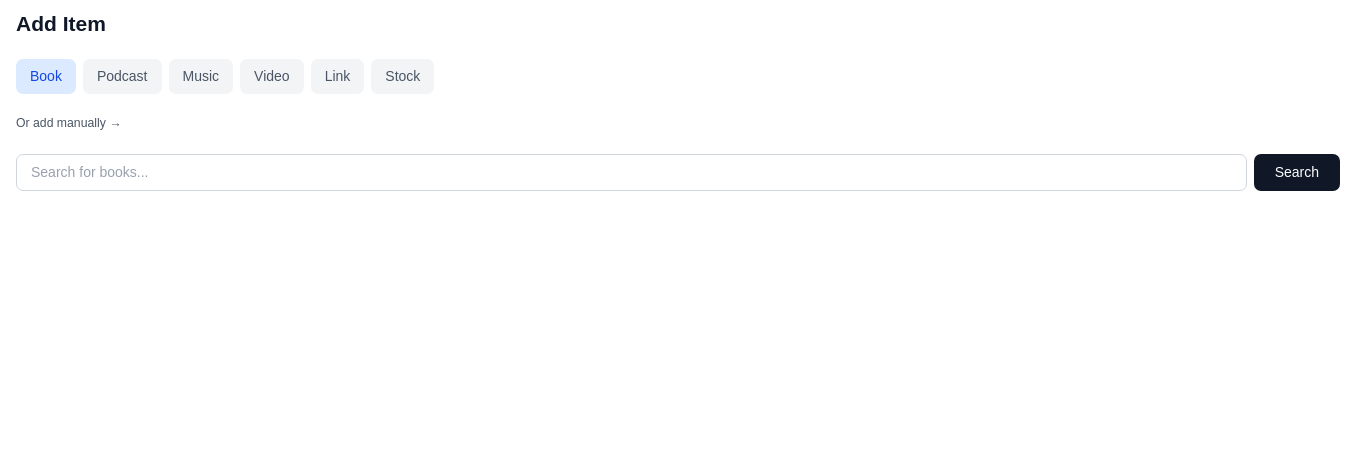
Scenario: AddItemForm - Episode Browsing › displays episodes when Browse Episodes is clicked
Switch to podcast type and search
Click the button "Podcast" at [122, 76], box top-left (83, 59), bottom-right (162, 94)
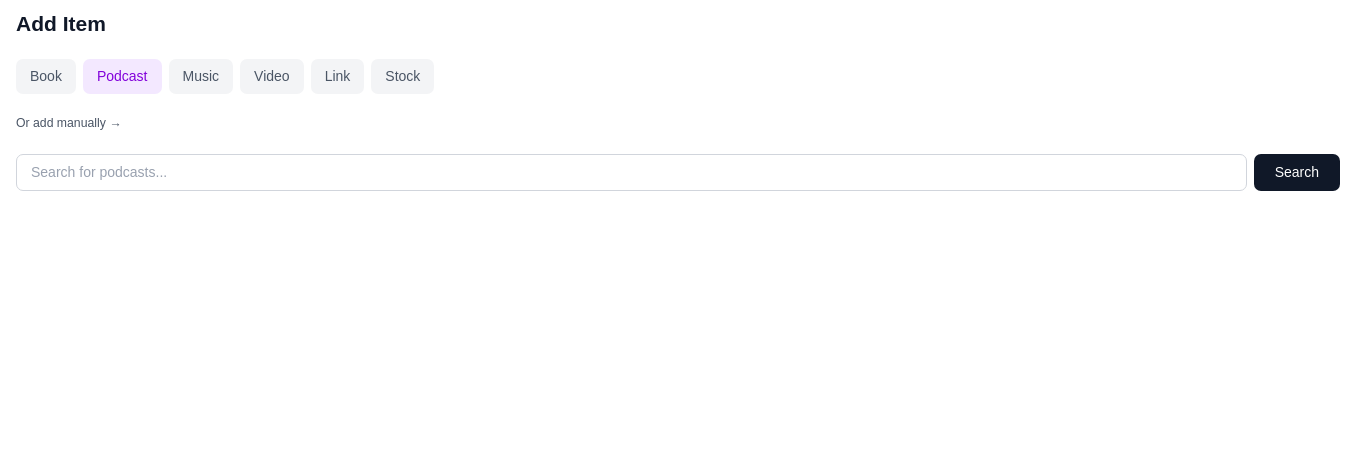
Type "test podcast" into the field with placeholder "Search for podcasts..." at [631, 172], box top-left (16, 154), bottom-right (1247, 190)
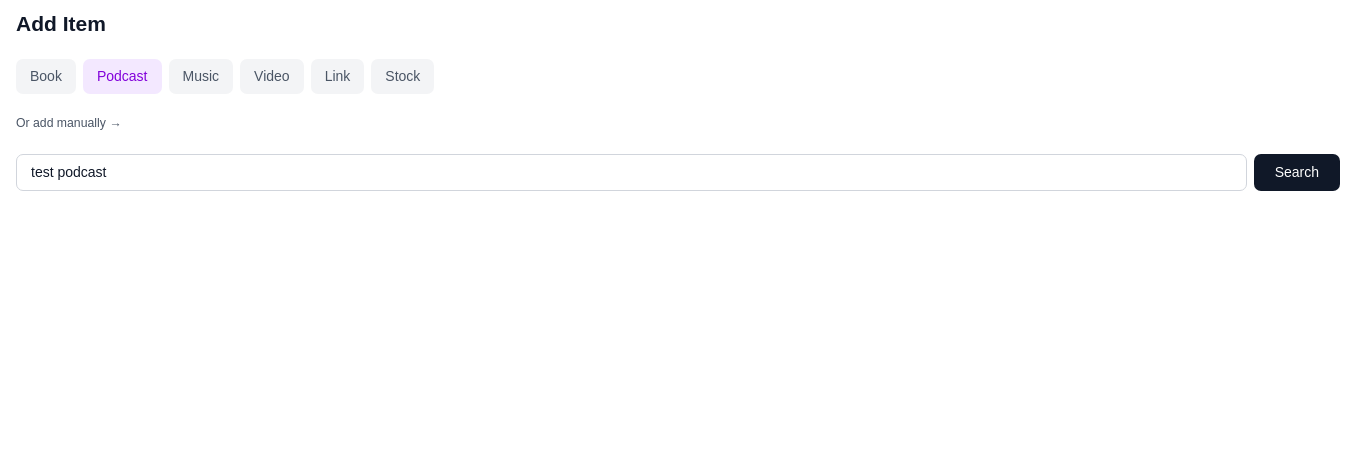
Click the button "Search" at [1297, 172], box top-left (1254, 154), bottom-right (1340, 190)
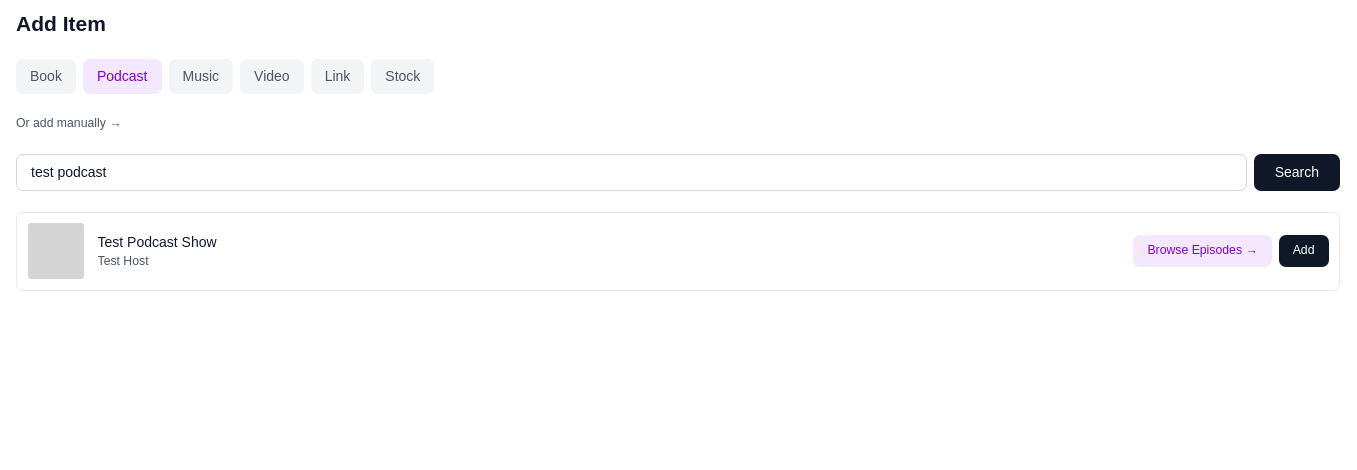
Expected: the button "Browse Episodes →" is shown
Click Browse Episodes
Click the button "Browse Episodes →" at [1203, 251], box top-left (1133, 235), bottom-right (1272, 267)
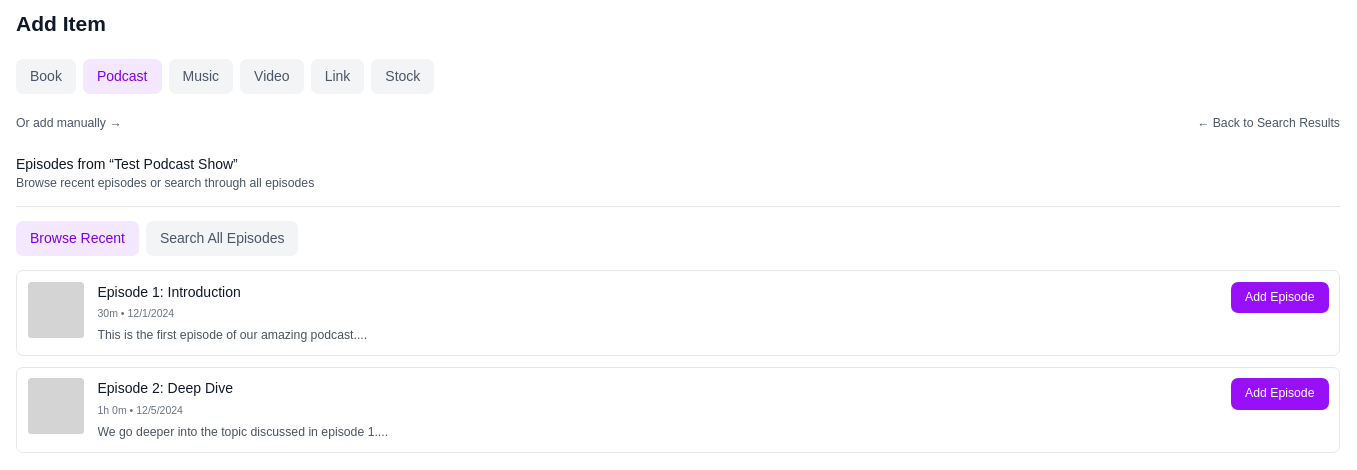
Expected: the heading "Episodes from “Test Podcast Show”" is shown, top-left (16, 156), bottom-right (238, 172)
Expected: the heading "Episode 1: Introduction" is shown, top-left (98, 284), bottom-right (241, 300)
Expected: the heading "Episode 2: Deep Dive" is shown, top-left (98, 380), bottom-right (233, 396)
